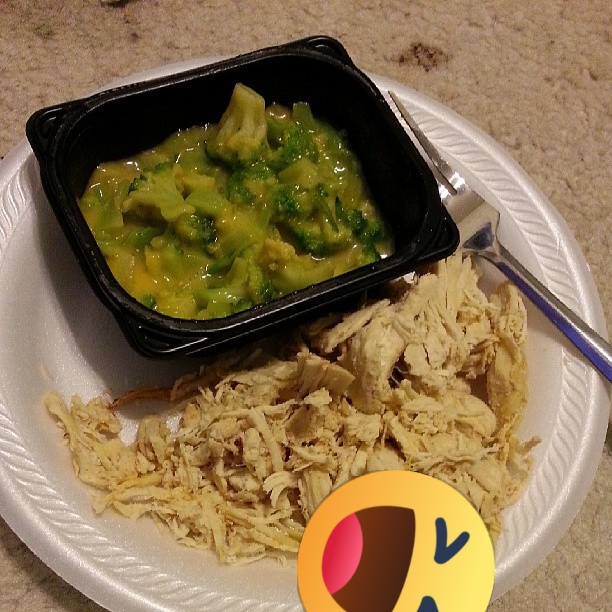haha: (297, 470, 495, 612)
